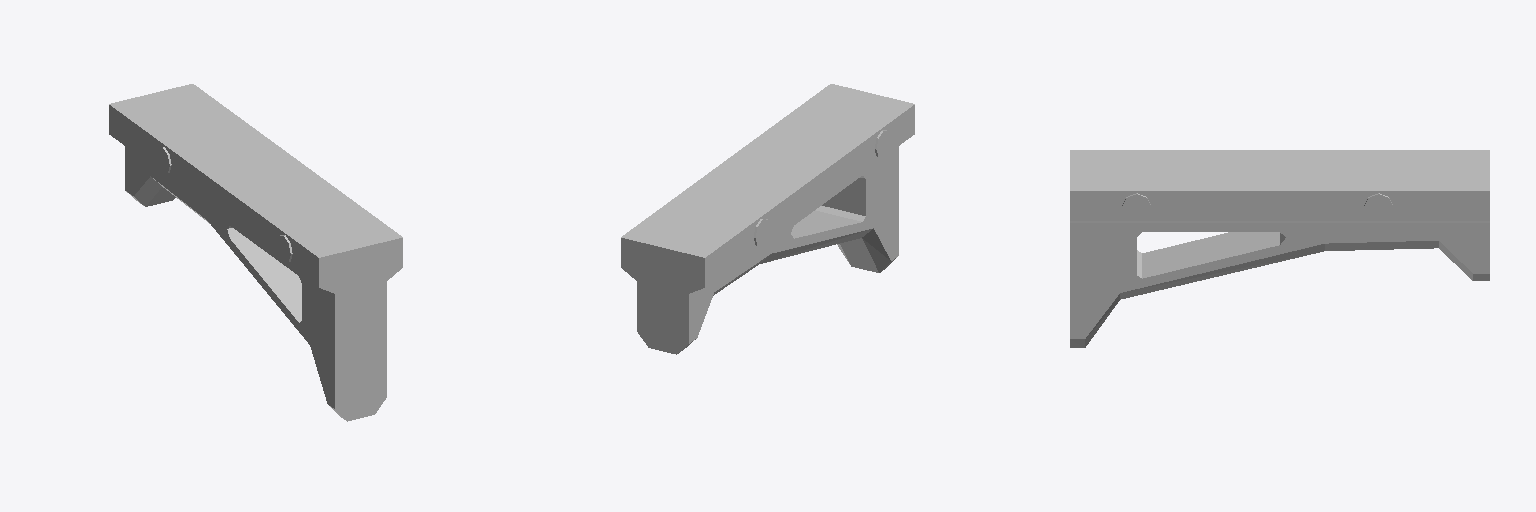
The model's file is Foregrip_East.obj.
3 views of the same model, side by side, from view 1: azimuth 30°, elevation 25°; view 2: azimuth 150°, elevation 25°; view 3: azimuth 270°, elevation 25° (orthographic).
Visible parts, largest first — view 1: Foregrip_East; view 2: Foregrip_East; view 3: Foregrip_East.
Part boxes in pixels (x1,y1,x2,y2): Foregrip_East: (109,84,402,421); Foregrip_East: (621,84,914,354); Foregrip_East: (1070,150,1489,347).
Bounding box in the file's own units: 0.0251 × 0.0463 × 0.1036.